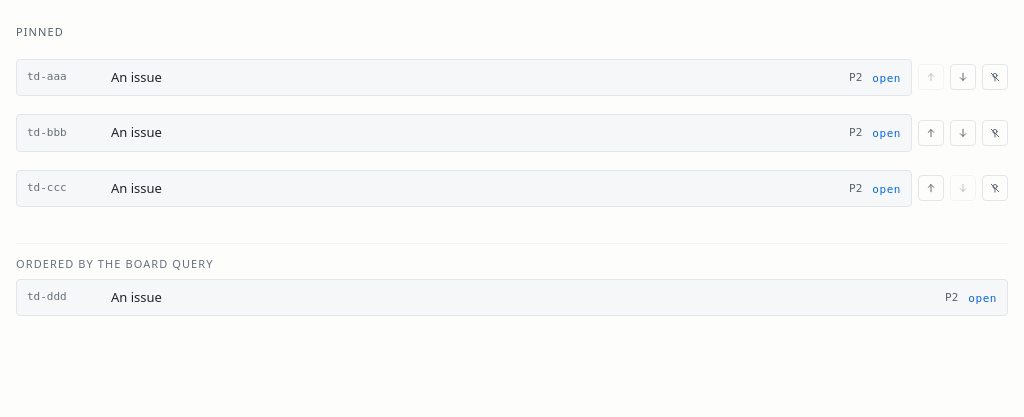
Test case: BacklogView › shows td's message when an unpin is rejected
The image size is (1024, 417).
Click the button named "Unpin td-bbb" at [995, 133], box [982,120,1008,146]
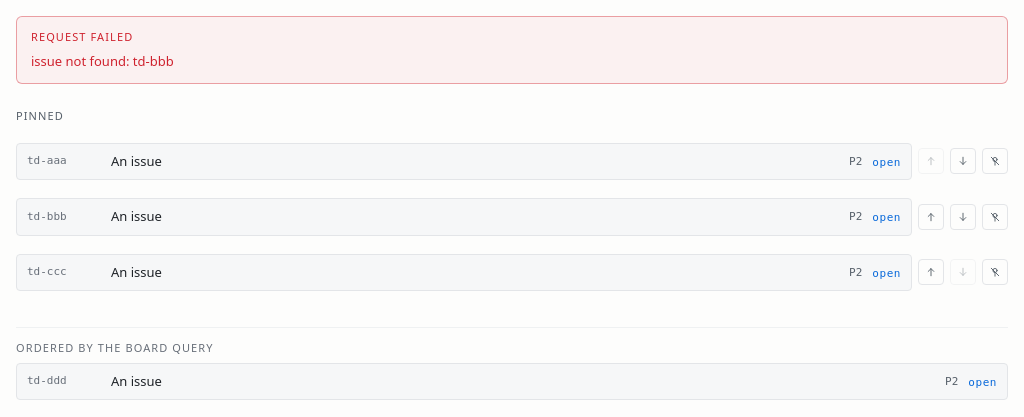
Check: the message shows "issue not found: td-bbb", box [31,52,174,70]
